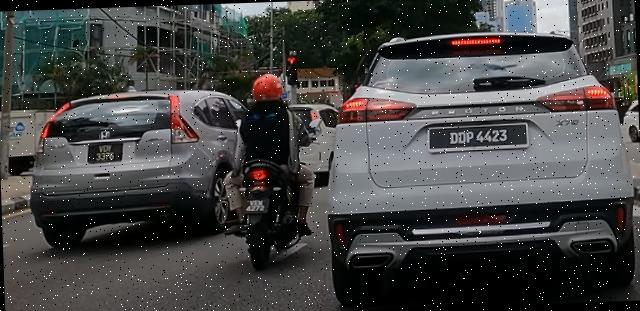License_Plate: (427, 122, 531, 154), (90, 143, 124, 165)
car: (322, 27, 639, 308), (27, 85, 254, 250)
